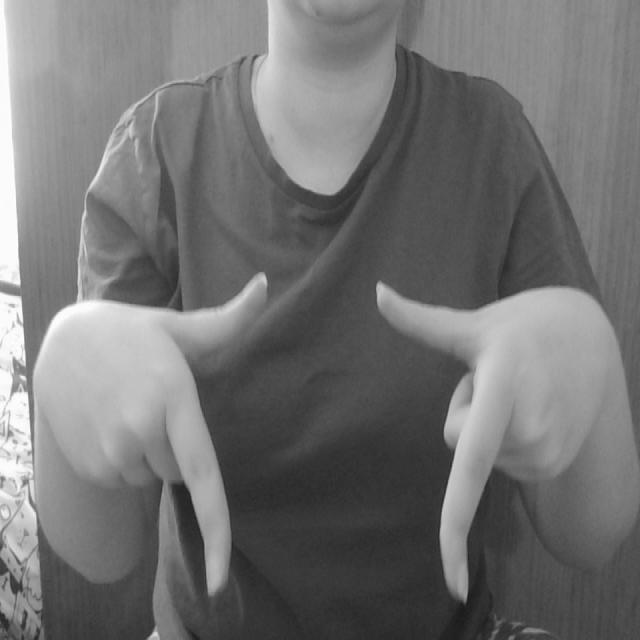Nerede: (160, 264, 522, 612)
